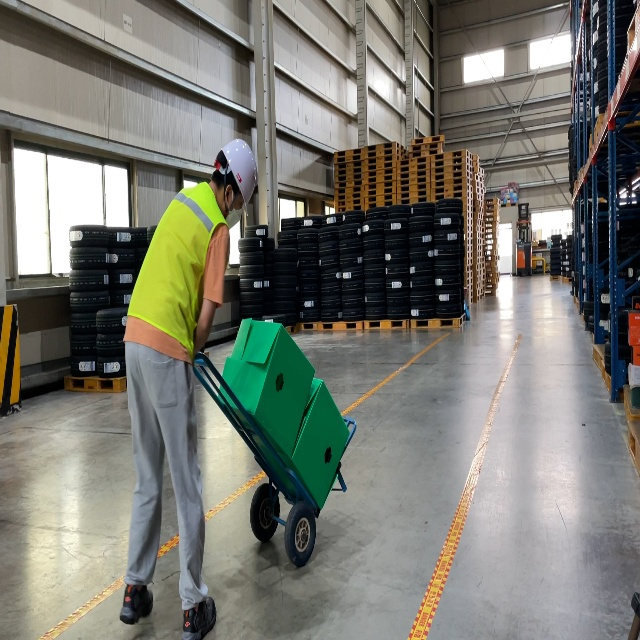Box: (217, 317, 316, 460), (251, 377, 350, 511)
Worker: (119, 137, 257, 640)
